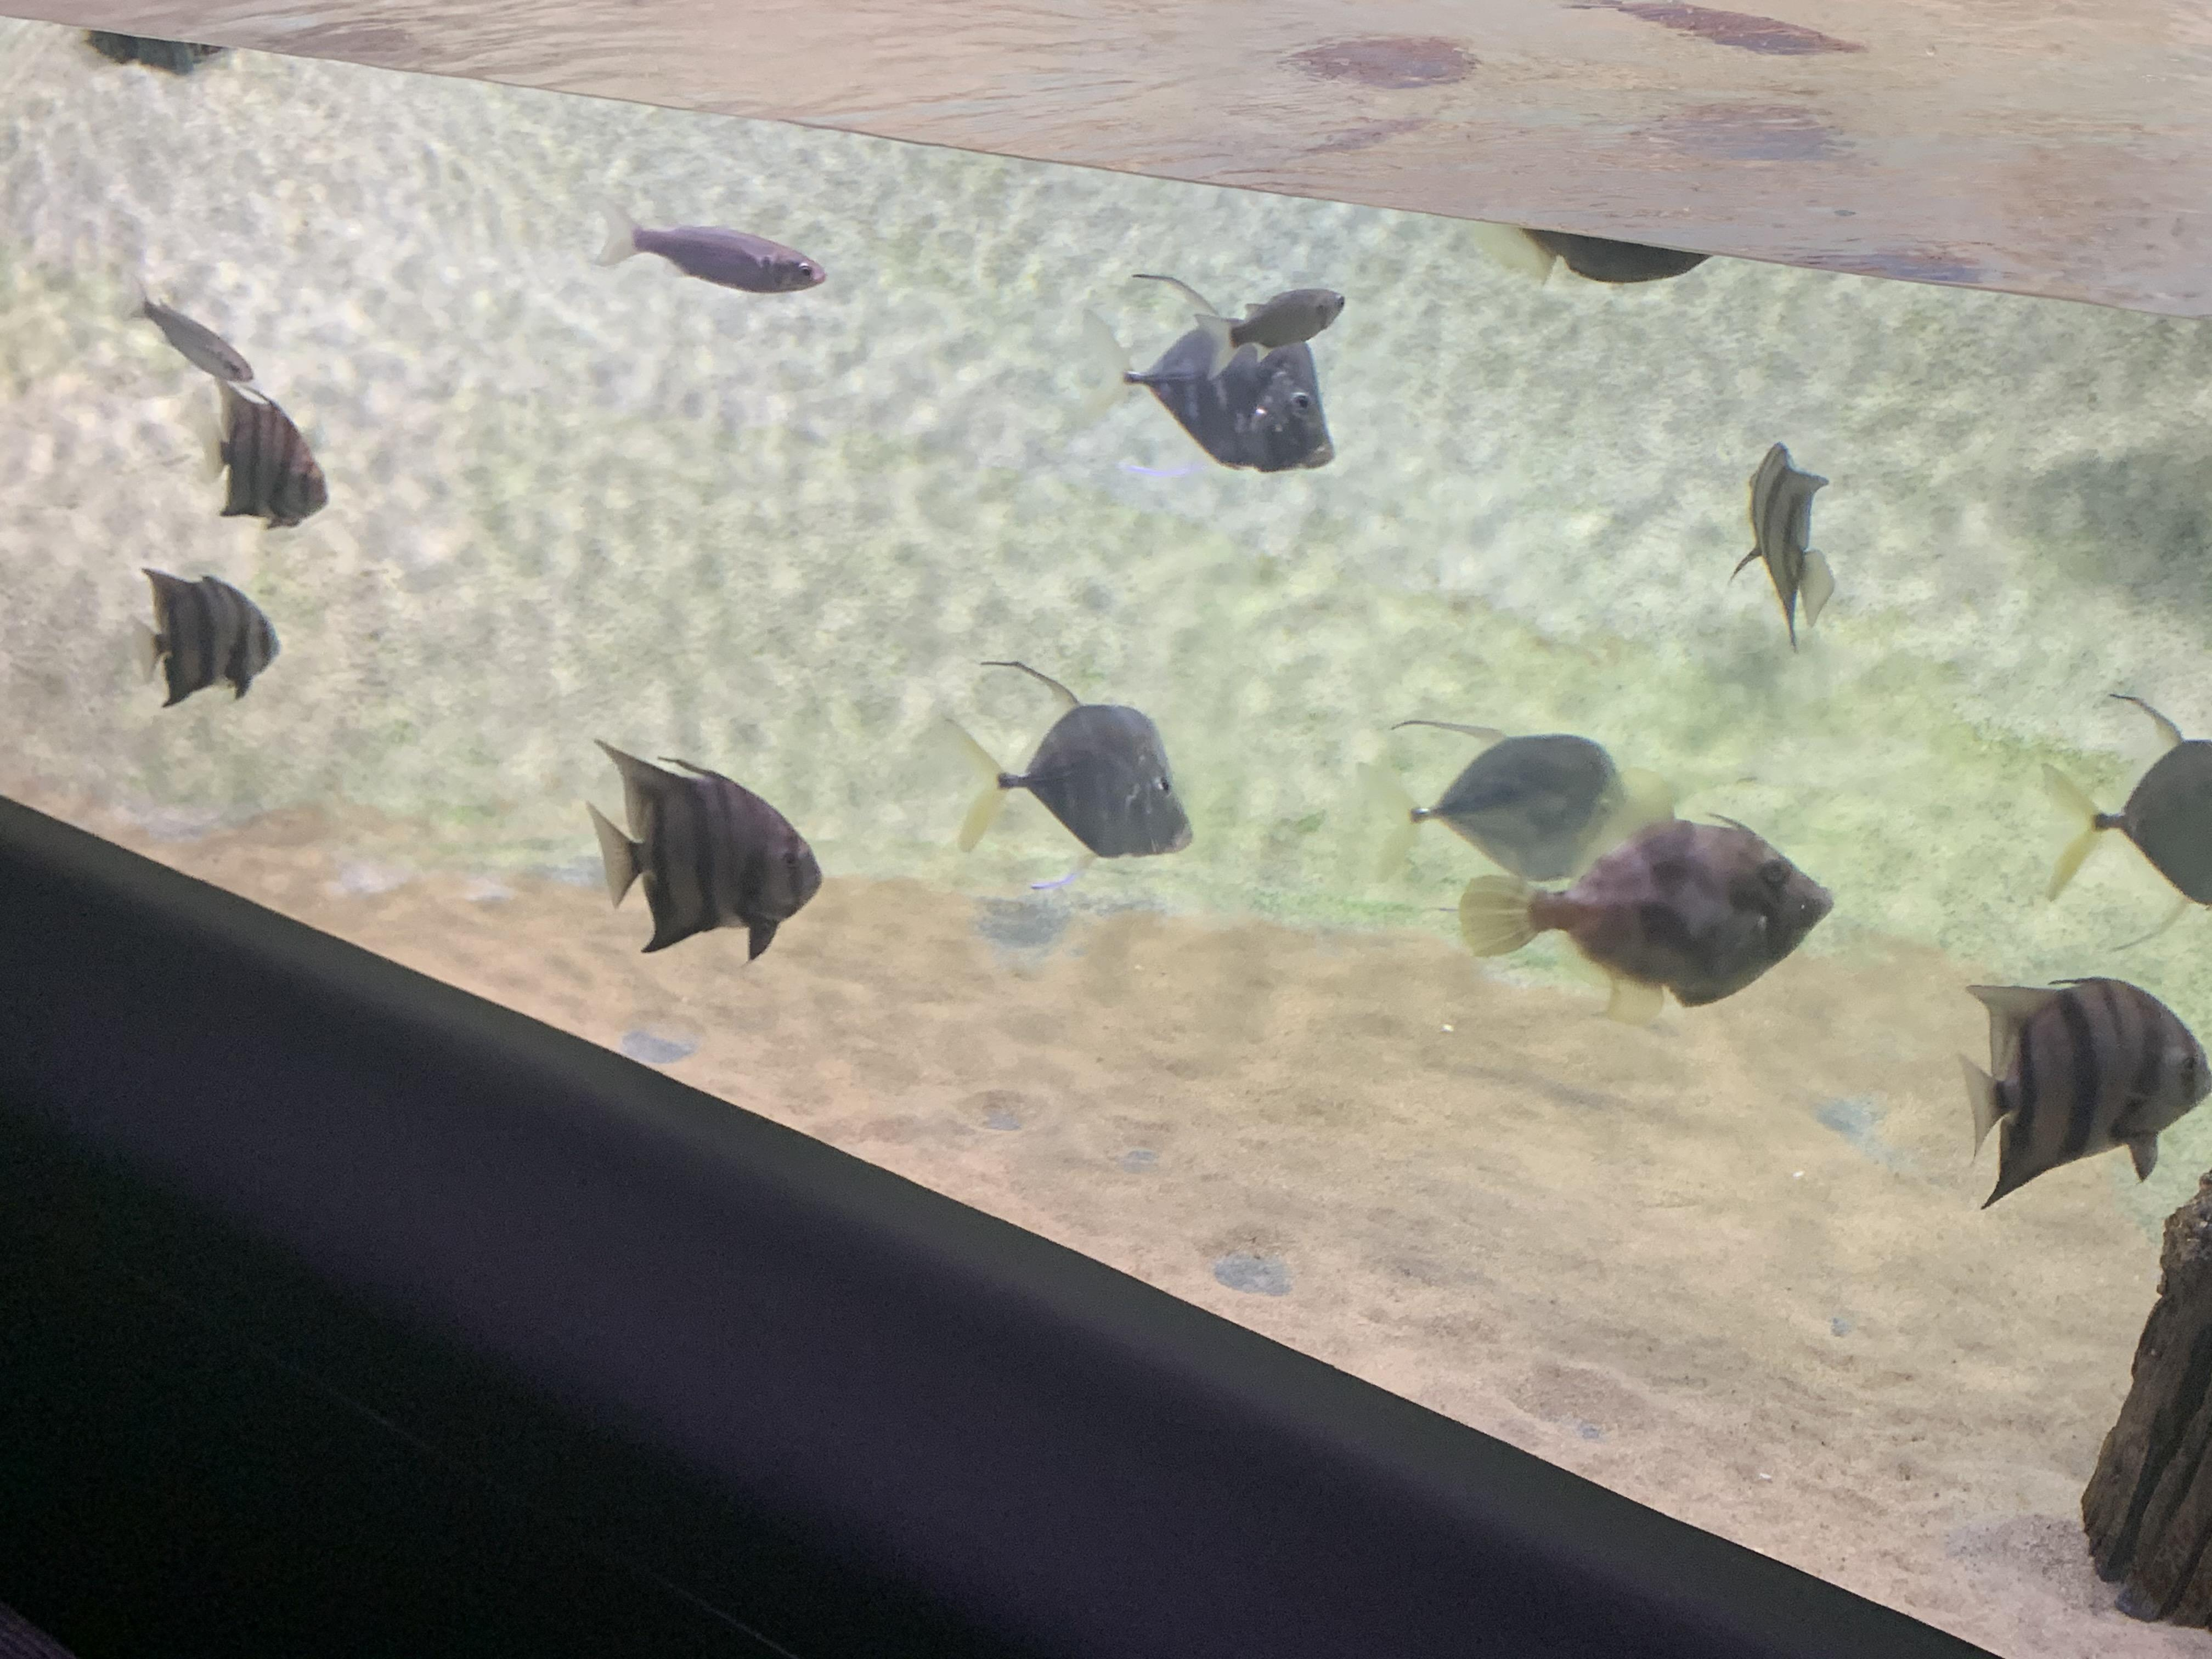fish: (1453, 807, 1838, 1014), (1947, 967, 2209, 1213), (578, 730, 829, 969), (930, 652, 1202, 870), (1082, 260, 1341, 483), (2026, 683, 2212, 958), (1378, 709, 1635, 889), (1728, 437, 1846, 652), (583, 204, 834, 303), (124, 565, 286, 714), (188, 376, 331, 535), (1510, 214, 1714, 295), (127, 282, 254, 403), (1216, 277, 1352, 369), (82, 21, 223, 85)
